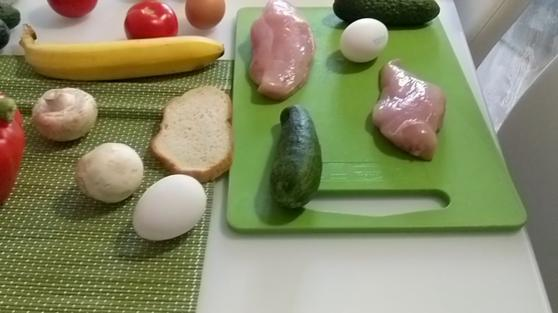banana: (18, 23, 225, 81)
champignon: (77, 141, 143, 201), (29, 86, 98, 139)
chicken_fillet: (371, 57, 444, 161), (247, 1, 314, 97)
cucumber: (270, 103, 323, 207), (330, 1, 442, 24)
egg: (131, 176, 205, 242), (336, 18, 391, 61), (184, 1, 226, 29)
tomato: (125, 3, 180, 37)
white_bread: (150, 85, 233, 176)
